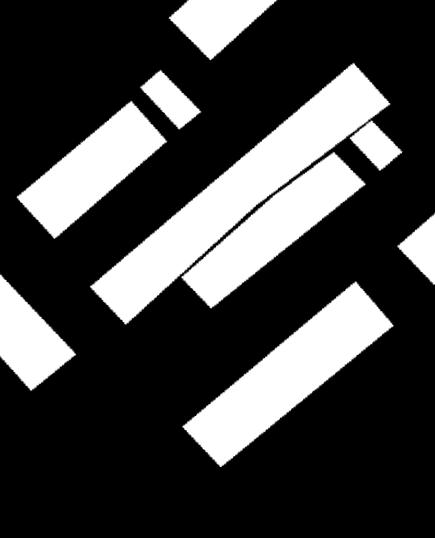parkingspot: (90, 63, 390, 324), (183, 282, 394, 467), (181, 152, 366, 308), (17, 101, 167, 239), (0, 275, 76, 391), (169, 0, 277, 60), (140, 70, 201, 129), (397, 213, 435, 285), (350, 121, 402, 171)
